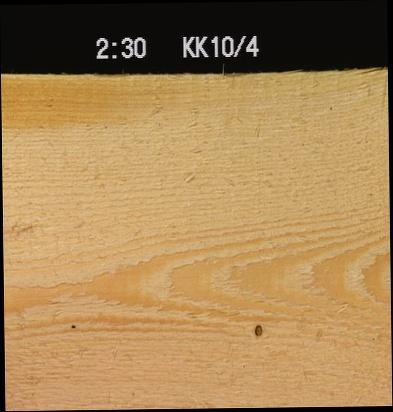dry_knot: (251, 320, 264, 341)
